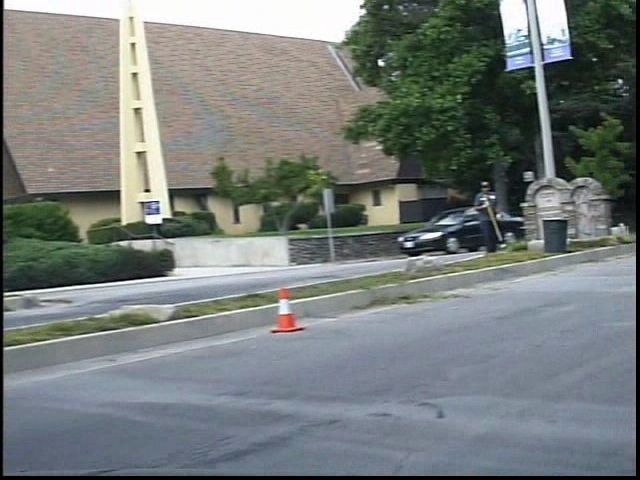person: (486, 175, 519, 256)
